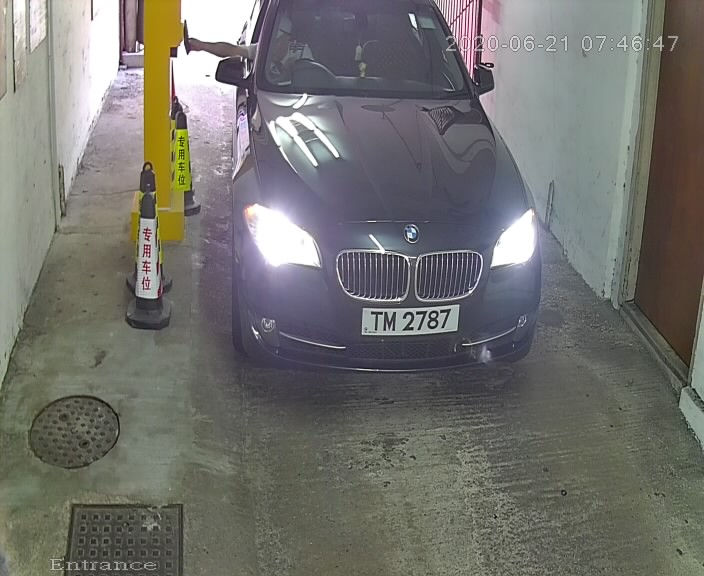privatecar: (209, 2, 550, 392)
